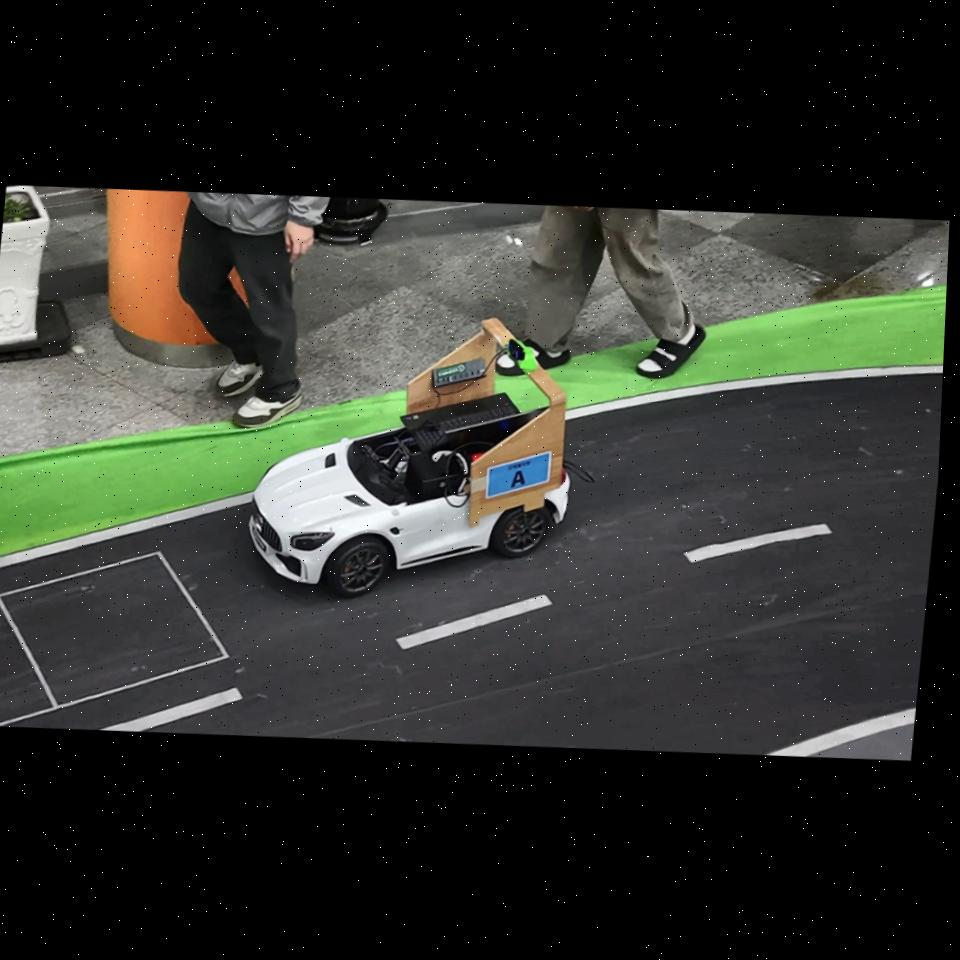broken_line: (395, 594, 552, 650), (98, 688, 243, 731), (683, 524, 832, 563)
